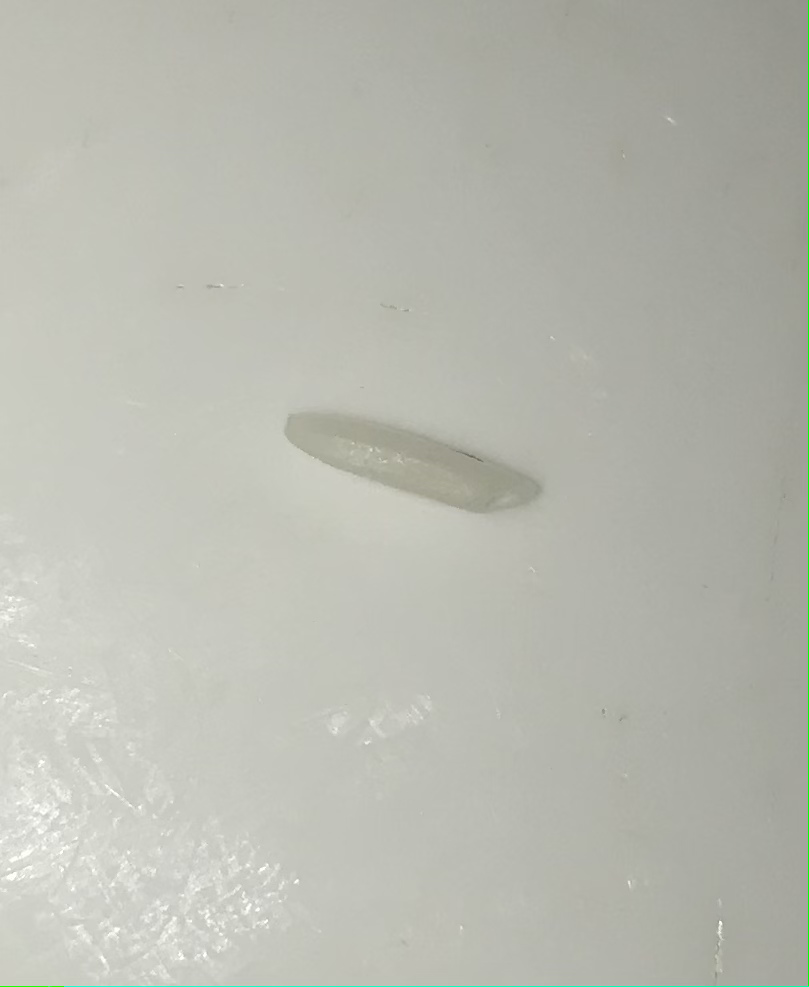Gao Ngoc Troi: (275, 396, 559, 525)
